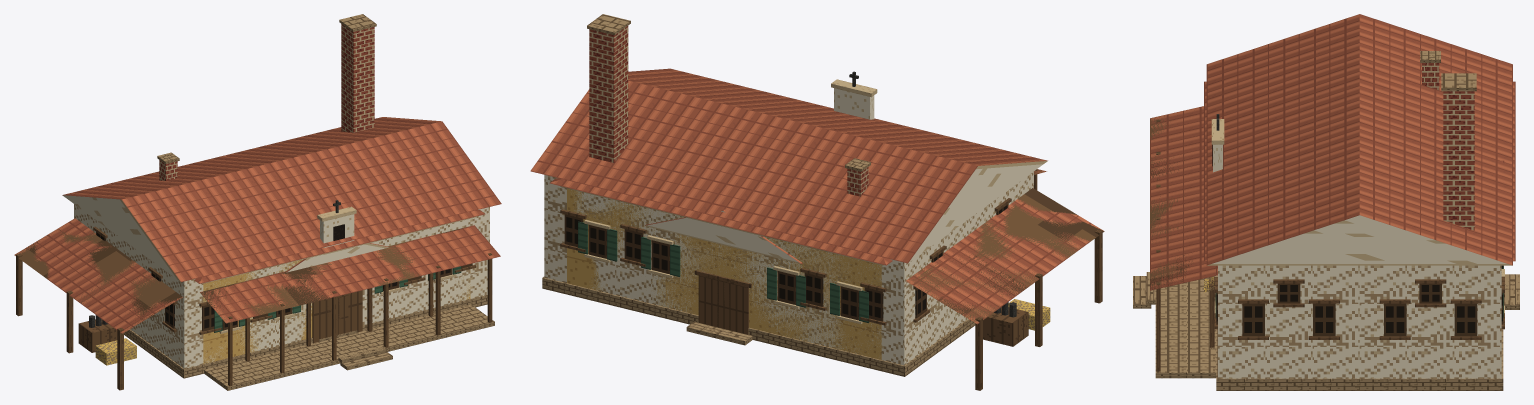
Rendered from buildings-rural.glb.
3 renders of one model, left to right at view 1: azimuth 30°, elevation 25°; view 2: azimuth 150°, elevation 25°; view 3: azimuth 270°, elevation 25°, orthographic. The views are drawn at different scales.
Parts seen in each view (by area): view 1: engenho, casa-sede, chapel, rancho; view 2: engenho, casa-sede, chapel; view 3: engenho, casa-sede, chapel, rancho.
Boxes of the visible parts, box(x1,y1,x2,y2) form: engenho: box(14, 14, 501, 390); casa-sede: box(157, 152, 500, 390); chapel: box(224, 155, 389, 341); rancho: box(242, 273, 433, 362); engenho: box(530, 14, 1104, 390); casa-sede: box(549, 158, 1046, 371); chapel: box(644, 71, 877, 335); engenho: box(1206, 14, 1519, 390); casa-sede: box(1133, 51, 1519, 378); chapel: box(1211, 114, 1513, 301); rancho: box(1204, 276, 1216, 349).
Size of the model in its own units: 19.61 by 11.12 by 13.65.
1 material, 1 textured.
